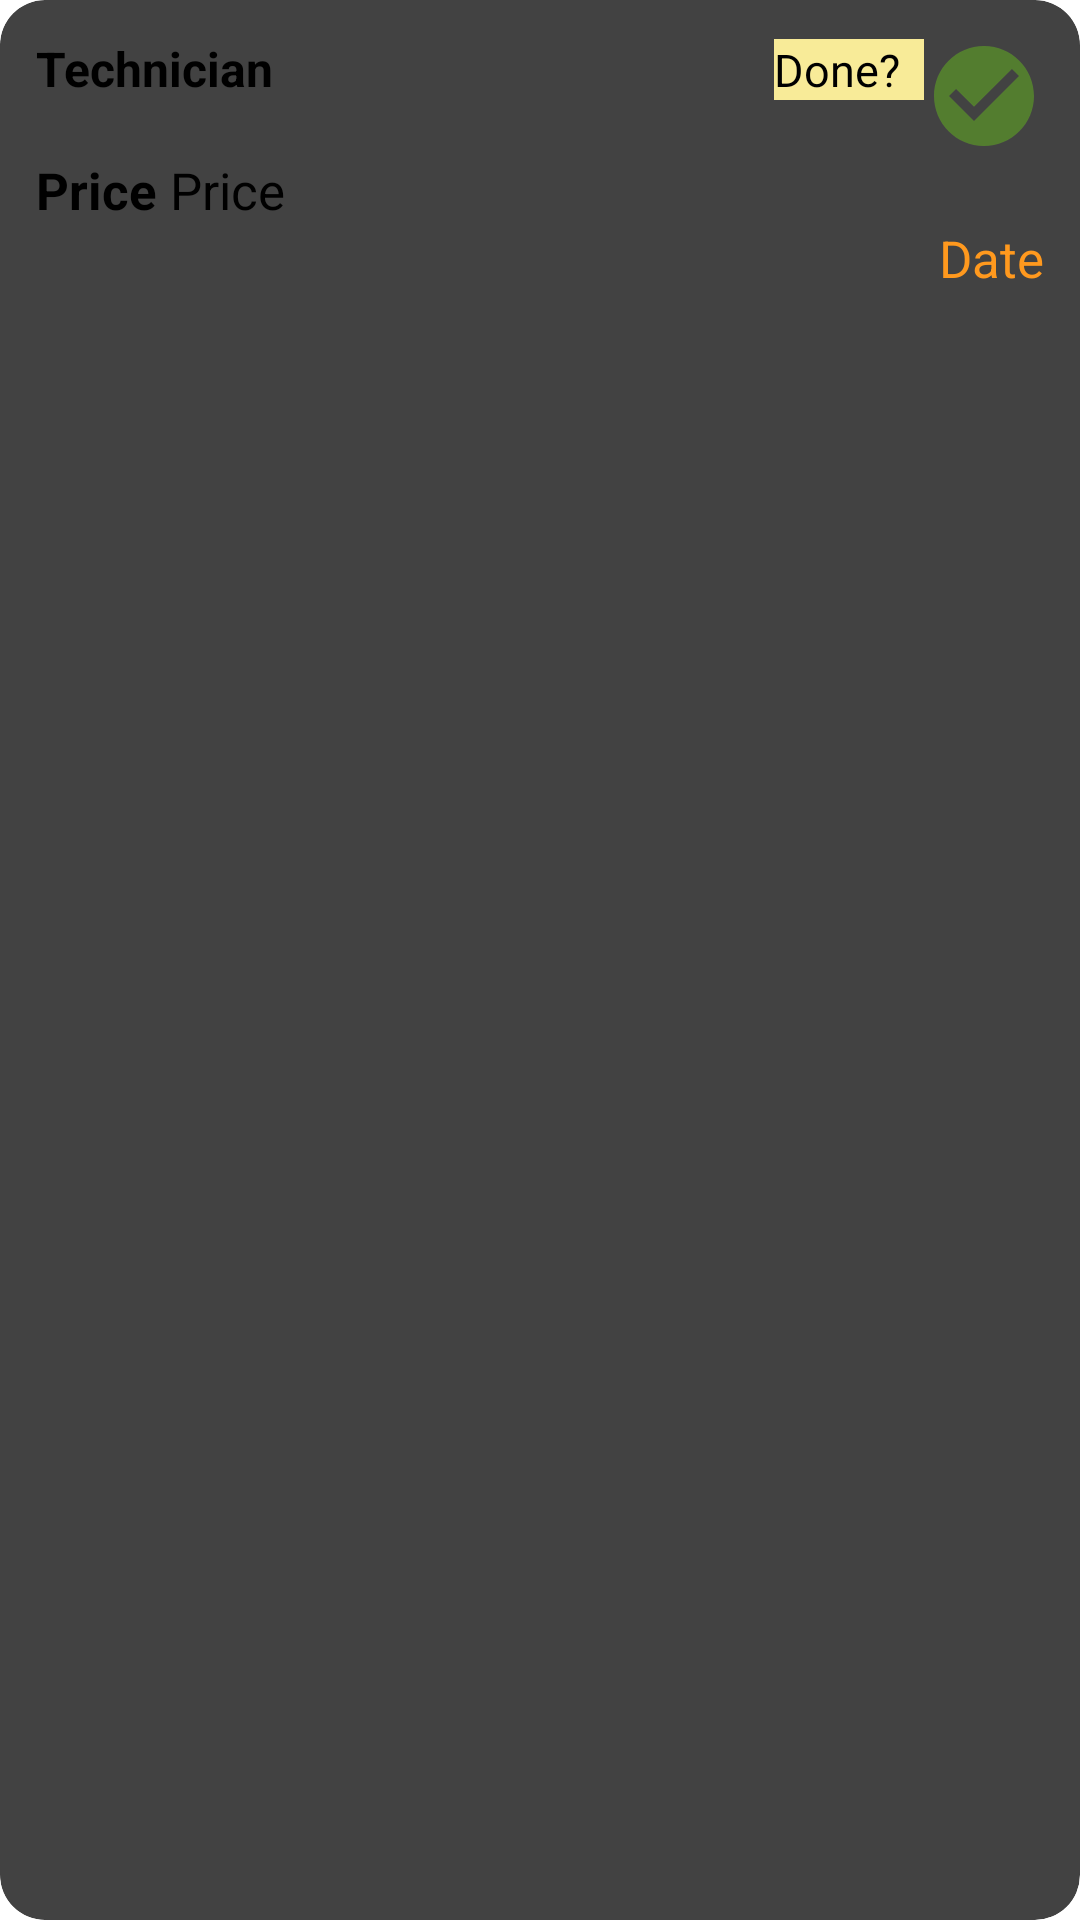

Named icons in this screenshot (1080w x 1920h) and their centers, (x=x, y=y):
check circle: (x=984, y=96)
